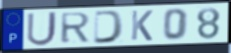0: (162, 7, 189, 42)
8: (195, 6, 222, 41)
D: (92, 9, 126, 45)
K: (129, 9, 154, 42)
R: (59, 11, 93, 45)
U: (25, 10, 59, 47)
